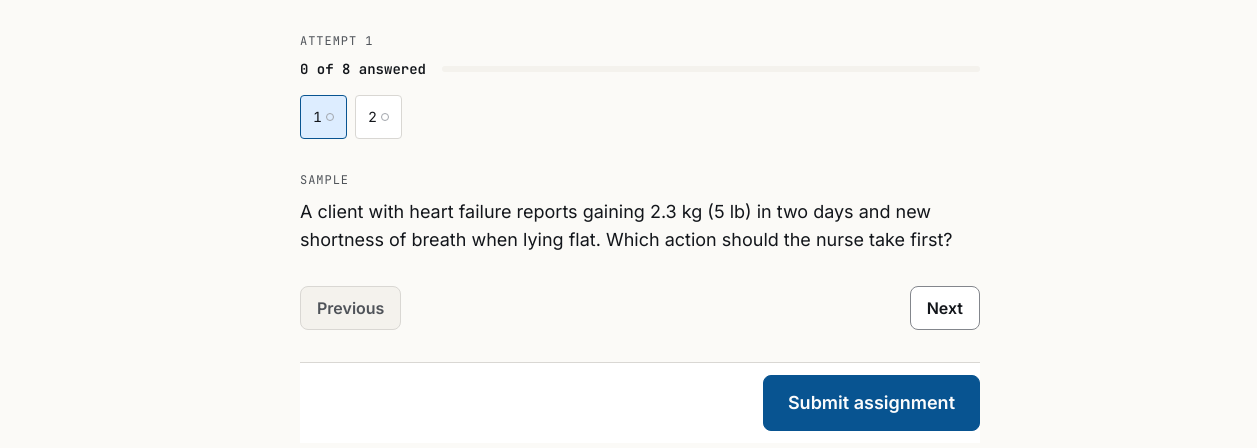
AttemptPlayer, a whole quiz with a case study in place (#470) › shows a step's chart beside it and none beside a loose question
This screenshot has width=1257, height=448.
Expected: the element "Patient record" is not shown
Expected: the text with test id "answered-count" reads "0 of 8 answered", 300,60 -> 426,78
Click the button "Next": x=945, y=308 910,286 -> 980,330
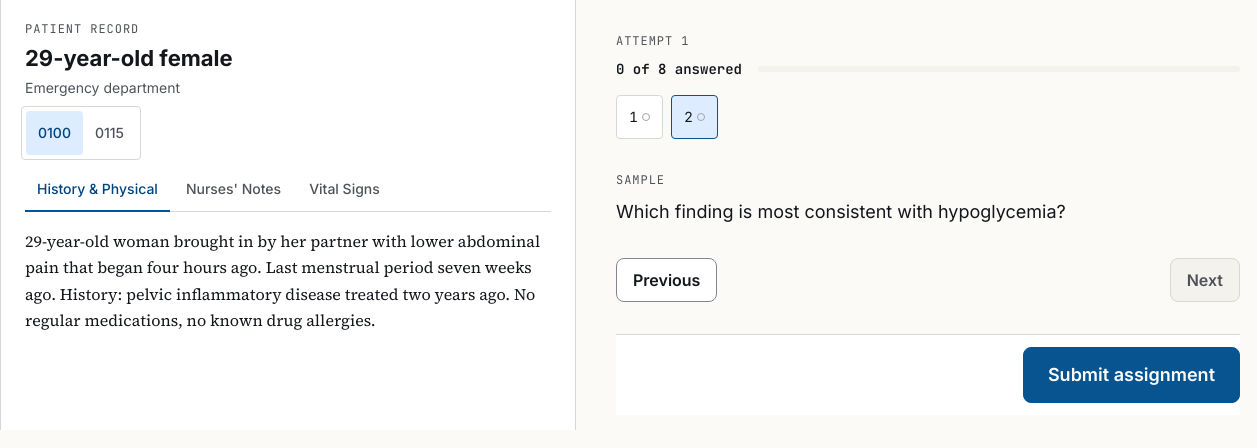
Now the element "Patient record" is shown, box 0,0 -> 576,430
Click the button "Previous": x=667, y=280 616,258 -> 717,302
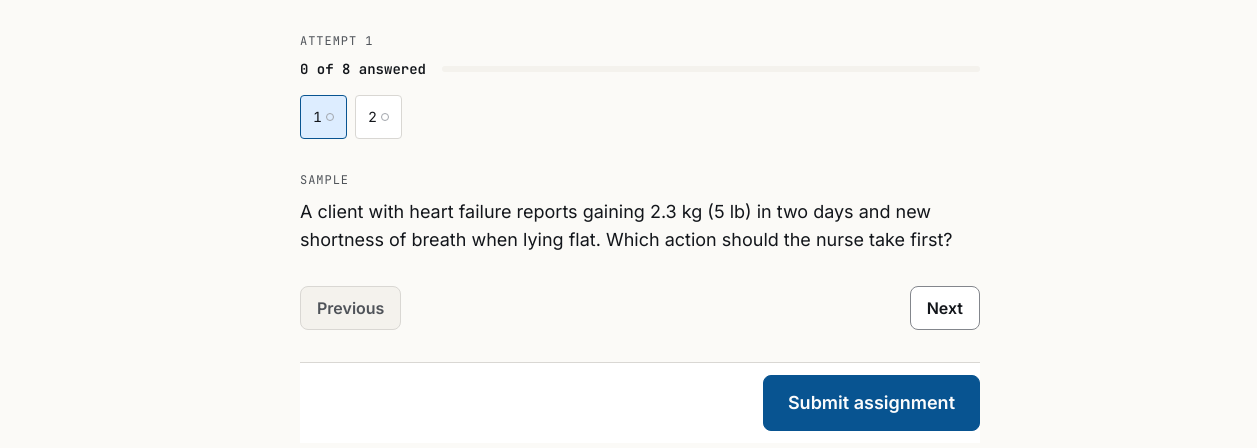
Now the text "Patient record" is gone
